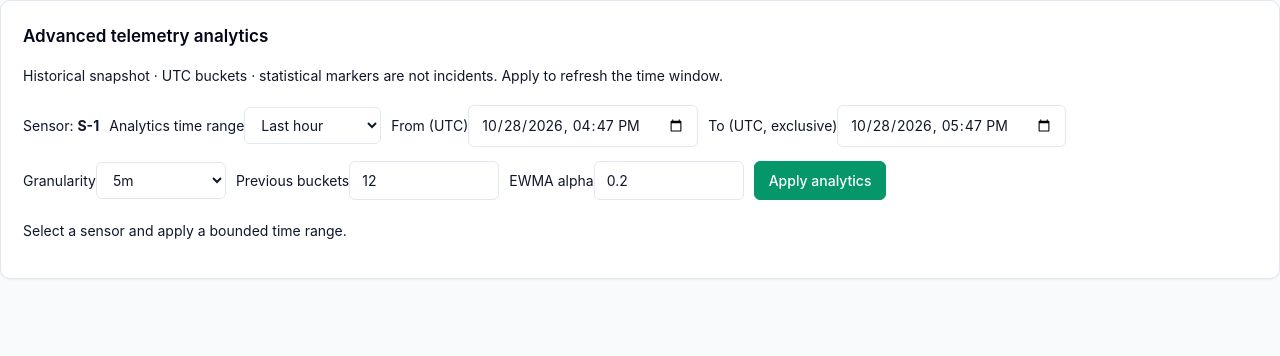
Test: advanced analytics UI › shows server budget validation errors without fabricated chart data
What coordinates should you click on to do the following:
click the button "Apply analytics"
I would click on:
 (820, 181)
Its box is x1=754 y1=161 x2=886 y2=200.
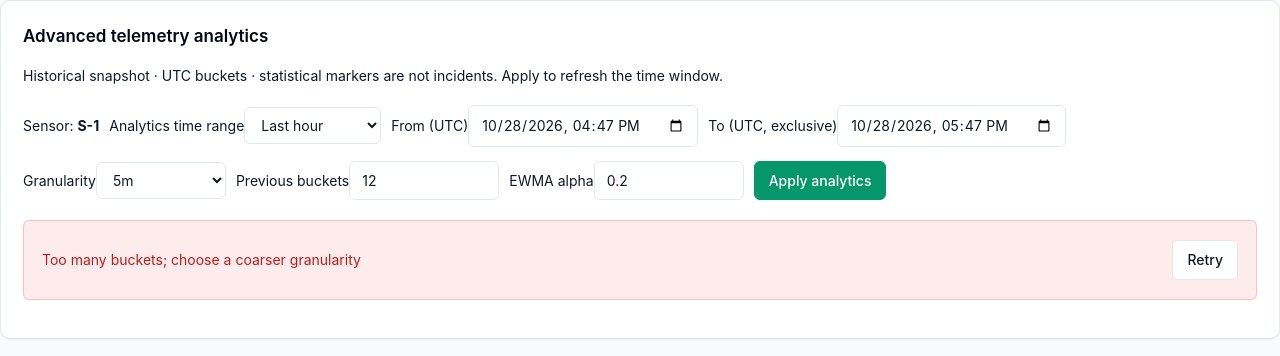
expect the message "Too many buckets; choose a coarser granularity Retry" is shown: met, box x1=23 y1=220 x2=1257 y2=300
expect the text "Too many buckets; choose a coarser granularity" is shown: met, box x1=42 y1=249 x2=361 y2=271
